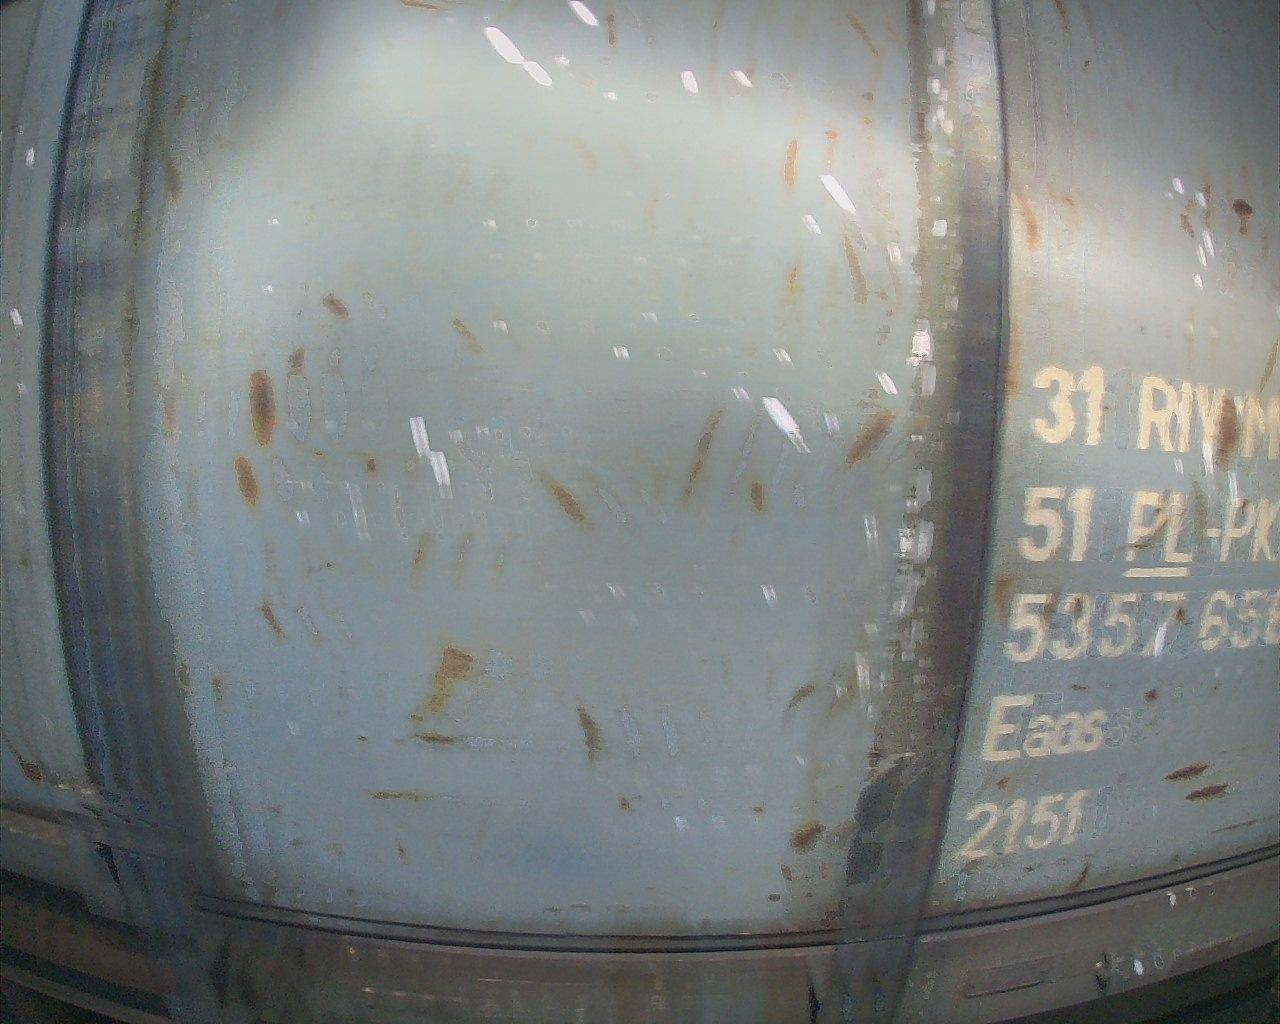UIC: (951, 360, 1280, 864)
